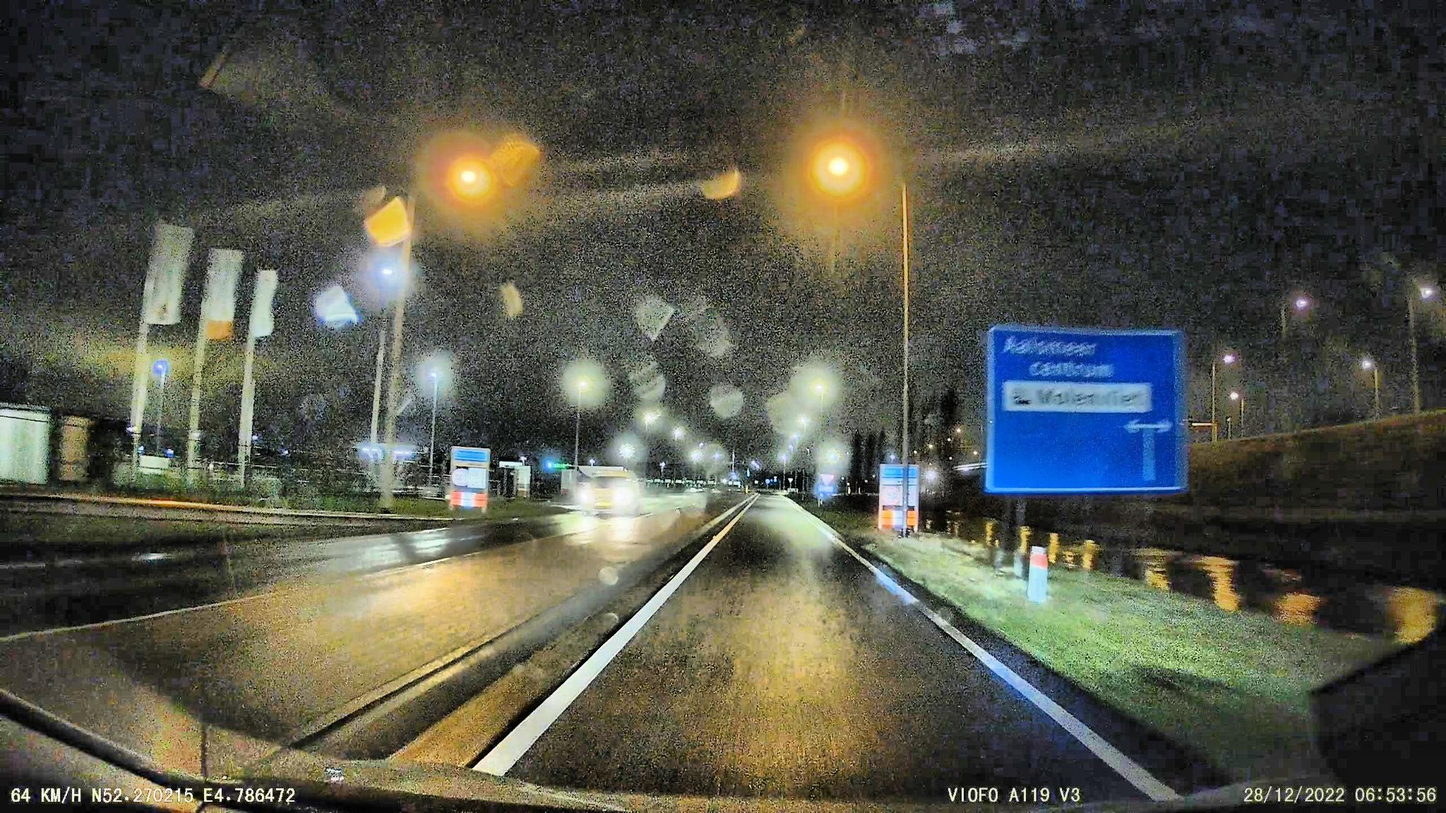Roads: (507, 491, 1107, 801)
